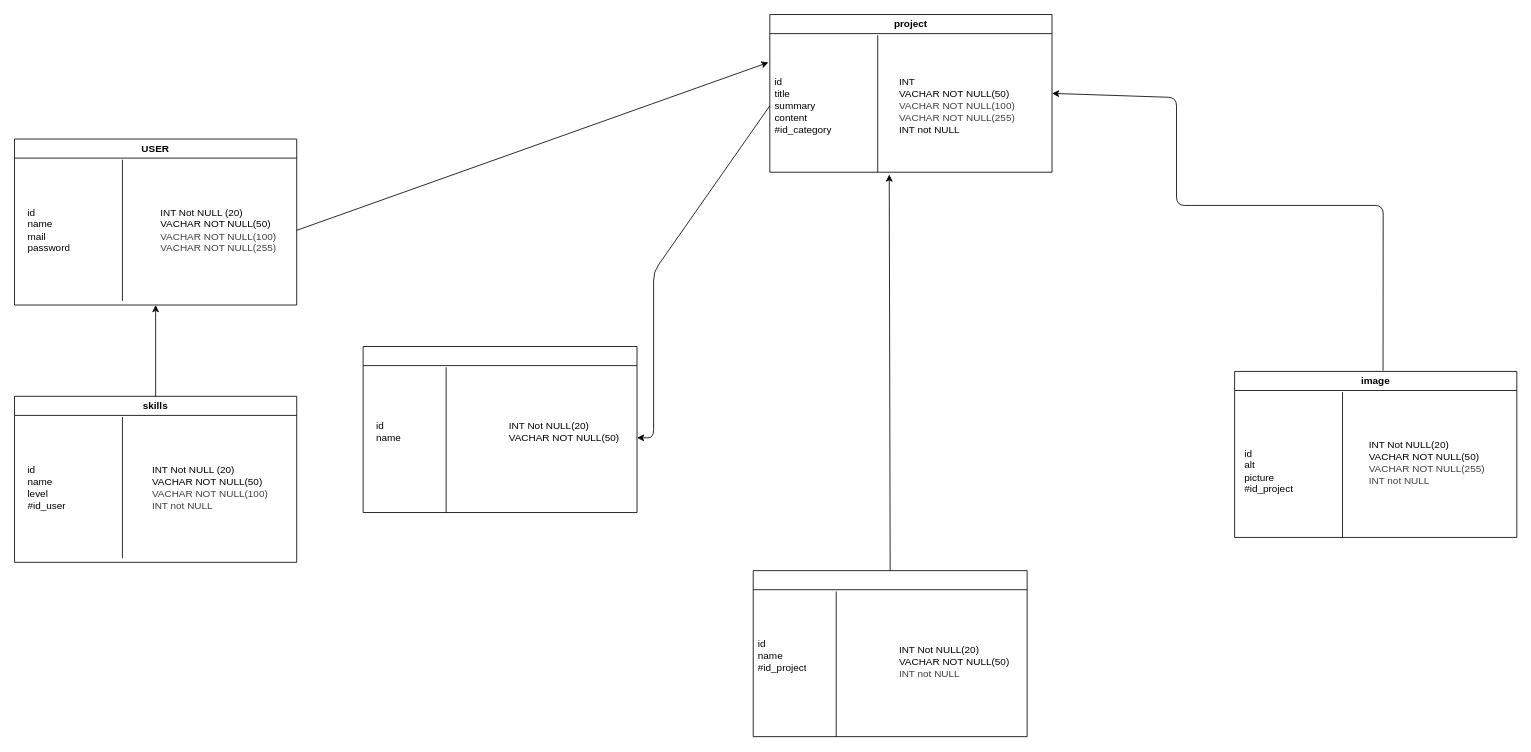
Image size: 1531x752. Some labels were removed from this diagram. The shapes that lost their labels are listed below. From the top down, each one's box as (x1, y1, x2, y2) in pixels, then its label:
(362, 346, 637, 513): category
(752, 570, 1027, 737): tag
